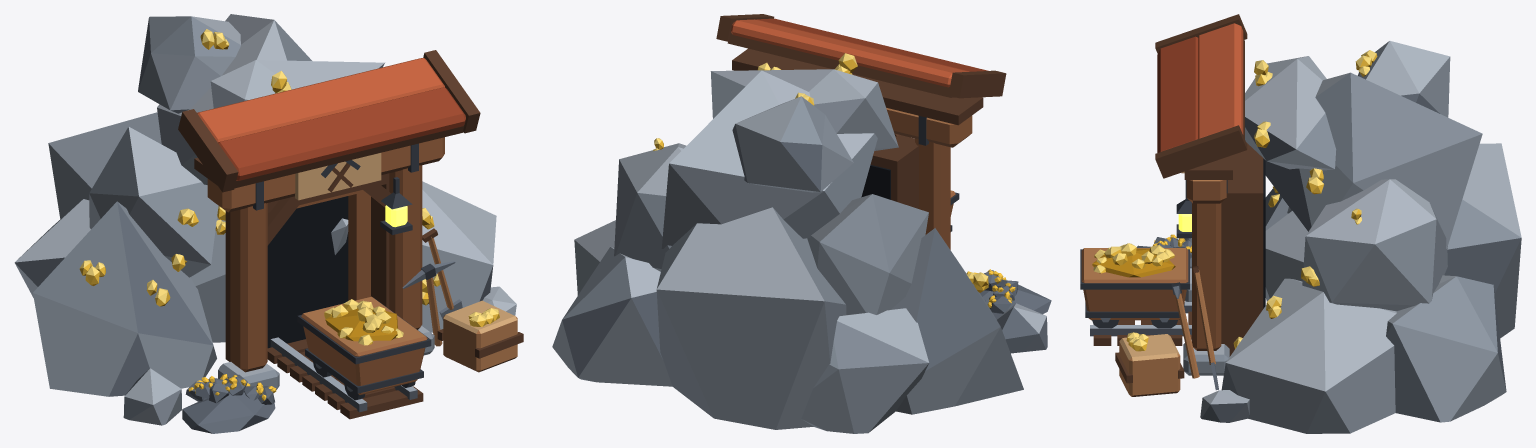
Rendered from Bld_Mine.fbx.
The picture shows the model from 3 angles, left to right: view 1: azimuth 30°, elevation 25°; view 2: azimuth 150°, elevation 25°; view 3: azimuth 270°, elevation 25°; orthographic projection. The views are drawn at different scales.
Visible parts, largest first — view 1: Bld_Mine; view 2: Bld_Mine; view 3: Bld_Mine.
Part boxes in pixels (box(x1,y1,x2,y2)): Bld_Mine: box(14, 14, 523, 433); Bld_Mine: box(552, 14, 1051, 433); Bld_Mine: box(1080, 14, 1521, 433).
Bounding box in the file's own units: 4.73 × 2.9 × 4.2.
